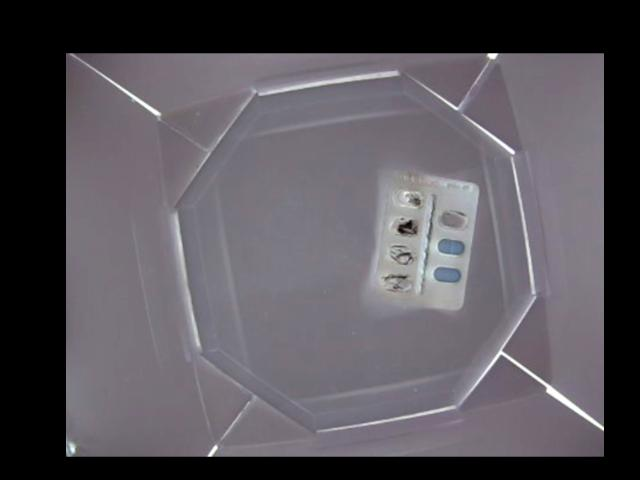Medicine: (374, 170, 478, 311)
